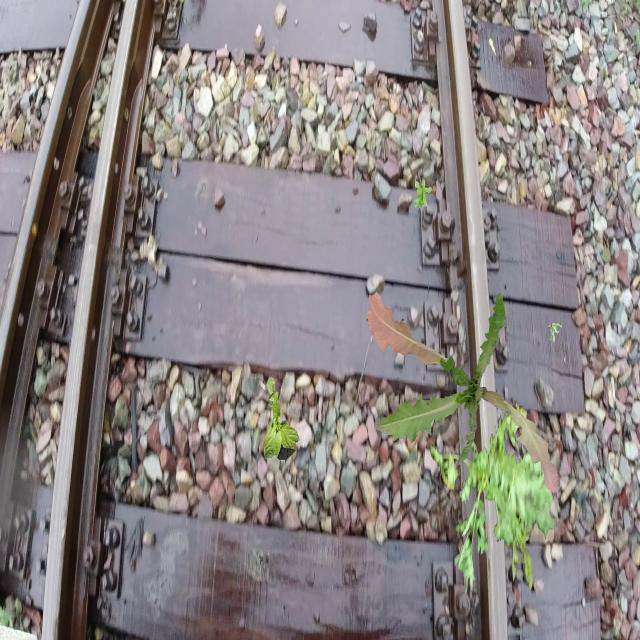Plant: (367, 291, 560, 494), (431, 399, 556, 595), (264, 377, 300, 460), (415, 179, 432, 211), (548, 322, 562, 342)
